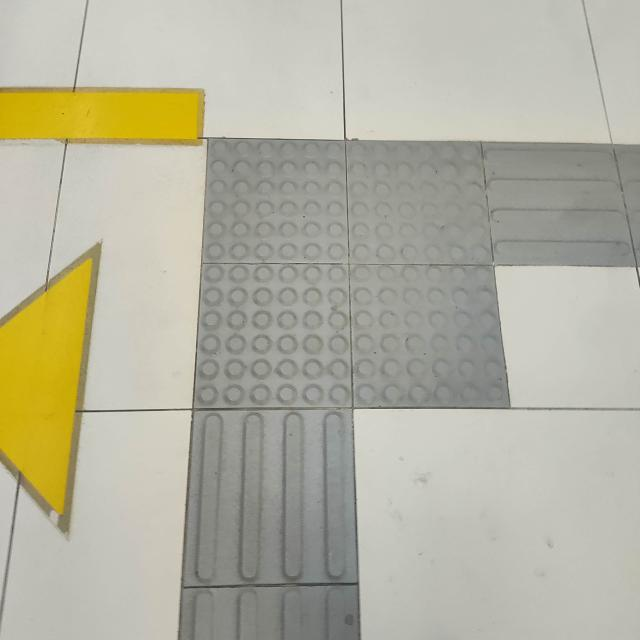kanan: (164, 111, 640, 463)
